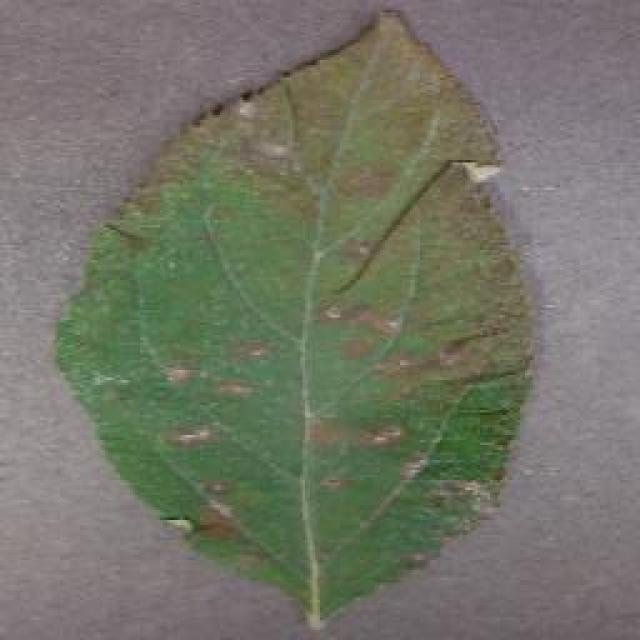apple rust disease: (52, 8, 540, 630)
